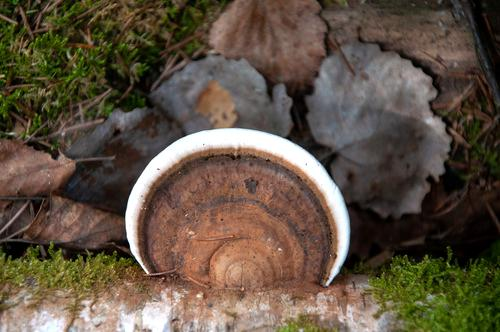Ganoderma - Fruit Body: (128, 127, 351, 287)
